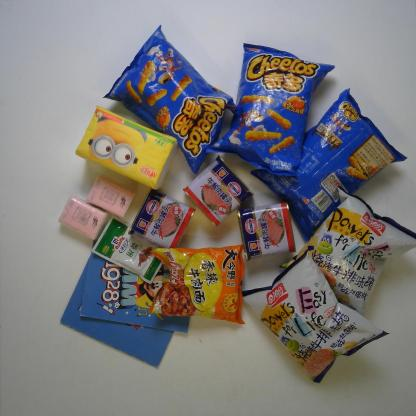Canned Food: (182, 154, 254, 227), (130, 187, 194, 250), (237, 202, 296, 260)
Instant Noodles: (149, 244, 246, 324)
Puffed Food: (249, 88, 408, 245), (103, 24, 238, 174), (241, 252, 391, 386), (277, 185, 414, 319), (205, 42, 335, 180)
Seasoner: (91, 214, 172, 284)
Stationery: (58, 253, 179, 369), (79, 238, 201, 333)
Tissue: (75, 106, 179, 190), (86, 173, 136, 219), (59, 197, 108, 241)
